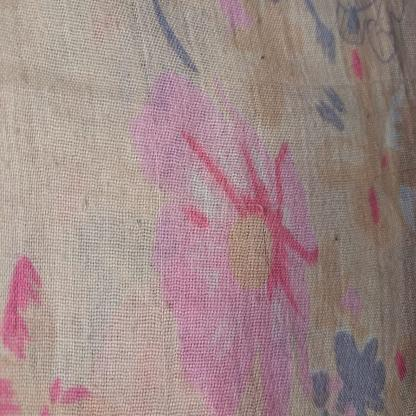spot: (332, 232, 344, 250), (255, 54, 270, 66)
